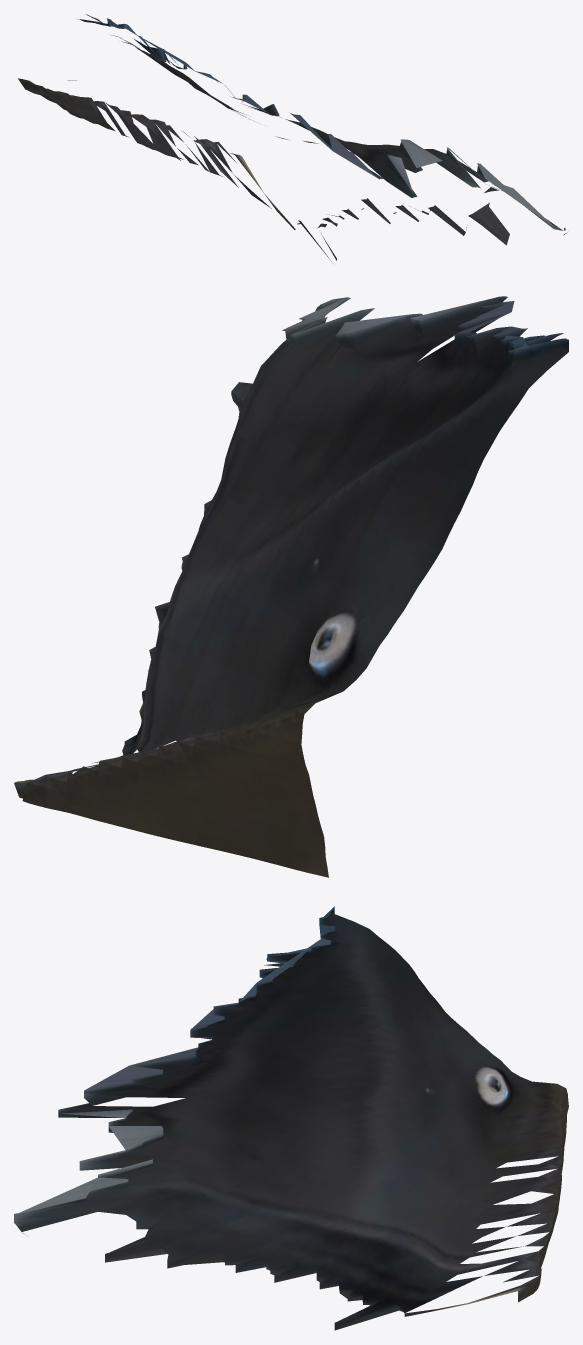
Rendered from observed-surface.glb.
3 renders of one model, top to bottom at view 1: azimuth 30°, elevation 25°; view 2: azimuth 150°, elevation 25°; view 3: azimuth 270°, elevation 25°, orthographic. The views are drawn at different scales.
Visible parts, largest first — view 1: geometry_0; view 2: geometry_0; view 3: geometry_0.
Part boxes in pixels (x1,y1,x2,y2): geometry_0: (18, 14, 567, 261); geometry_0: (14, 296, 568, 877); geometry_0: (14, 906, 568, 1330).
Size of the model in its own units: 0.571 by 0.5323 by 0.8755.
Materials: 1 (1 with a texture image).
